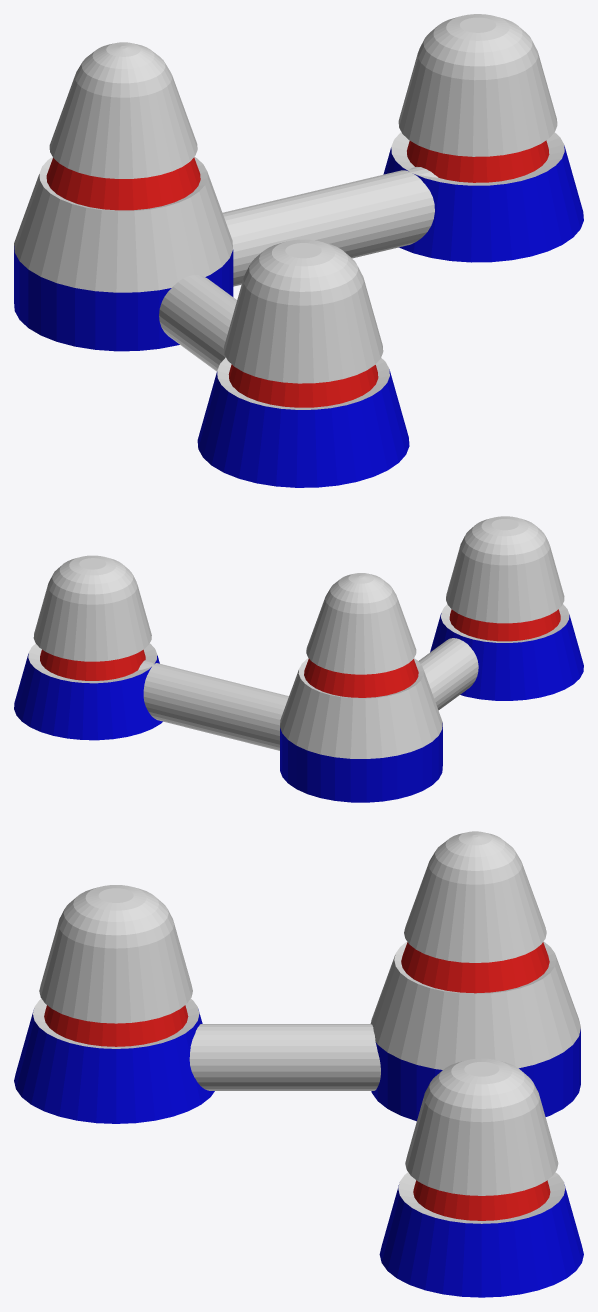
3 views of the same model, one above another, from view 1: azimuth 30°, elevation 25°; view 2: azimuth 150°, elevation 25°; view 3: azimuth 270°, elevation 25° (orthographic). The views are drawn at different scales.
Parts seen in each view (by area): view 1: Cylinder; view 2: Cylinder; view 3: Cylinder.
Boxes of the visible parts, x1,y1,x2,y2 form: Cylinder: (14,14,583,487); Cylinder: (14,516,583,802); Cylinder: (14,831,583,1297).
Size of the model in its own units: 1730 by 784 by 1618.
